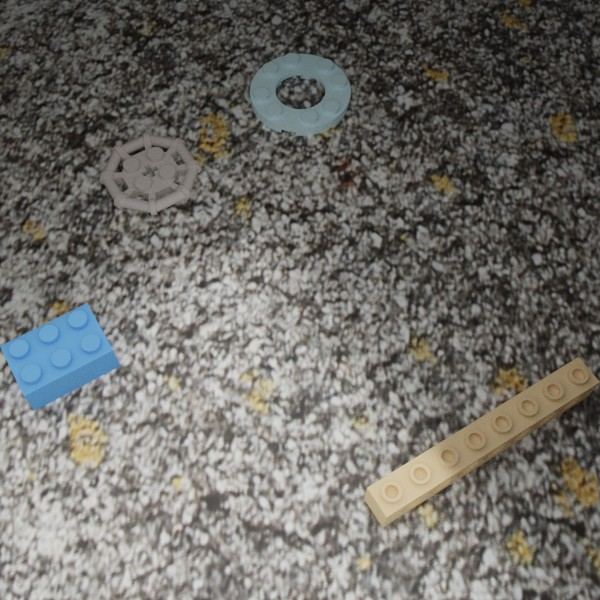lego: (364, 356, 599, 527), (0, 303, 120, 410), (99, 132, 201, 215), (250, 52, 350, 135)
